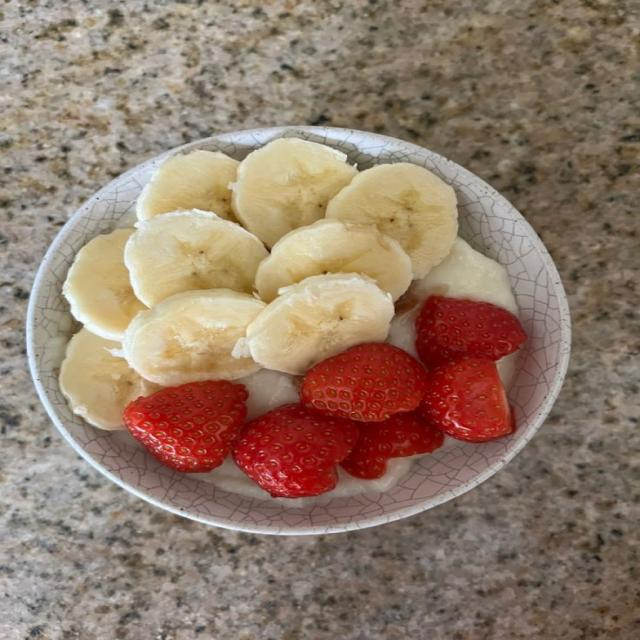banana slice: (234, 274, 393, 374), (327, 163, 457, 277), (123, 290, 265, 386), (232, 139, 357, 247), (125, 211, 267, 306), (256, 220, 412, 302), (60, 329, 160, 429), (63, 229, 145, 341), (137, 151, 239, 221)
strawberry sliced: (232, 403, 357, 497), (123, 380, 247, 472), (301, 343, 426, 421), (419, 359, 514, 442), (416, 296, 525, 367), (341, 412, 443, 480)
